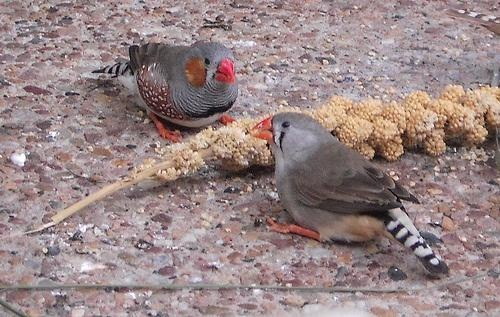bird: (247, 109, 454, 283), (91, 39, 241, 144)
